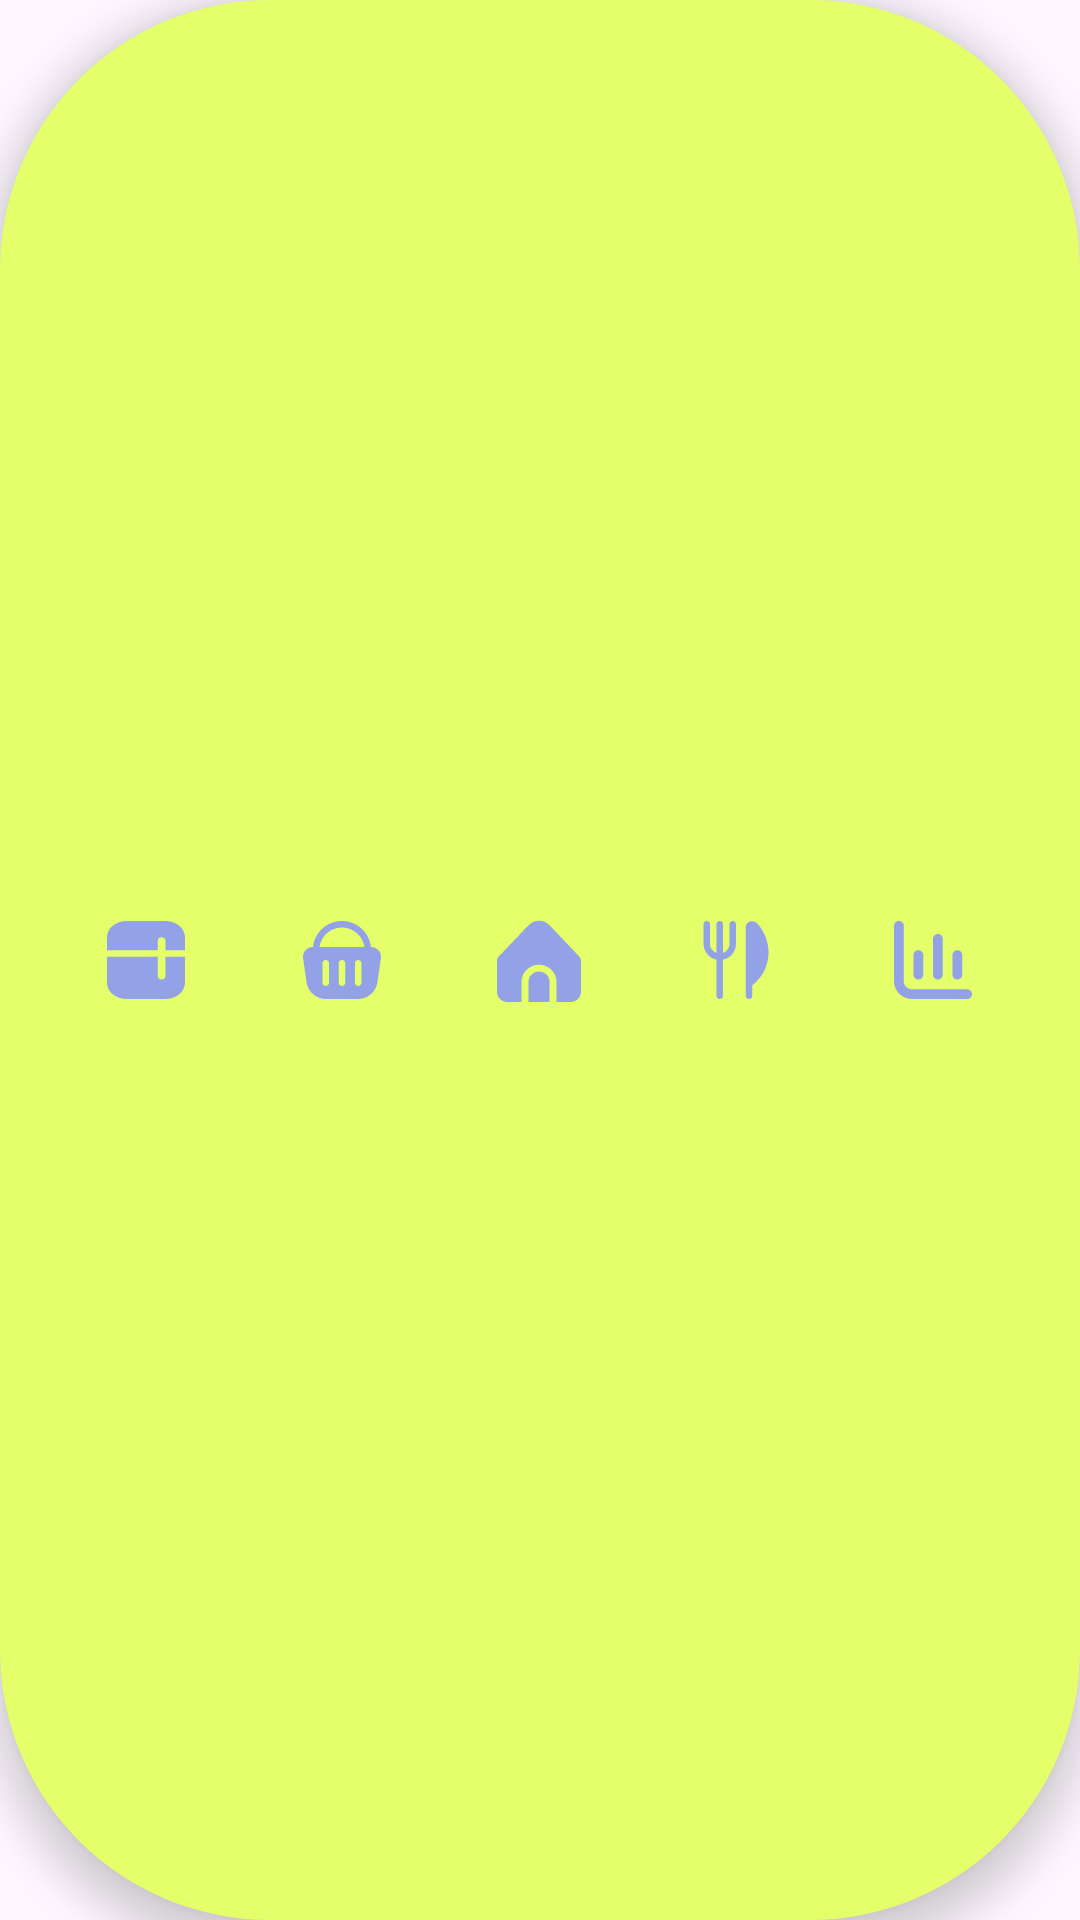

Screen size 1080px x 1920px. Icon name, then its box in pixels as (x1, y1, x2, y2):
home: (497, 920, 581, 1002)
recipes: (703, 921, 769, 999)
shopping: (303, 921, 381, 999)
stats: (894, 921, 972, 999)
storage: (107, 921, 185, 999)
